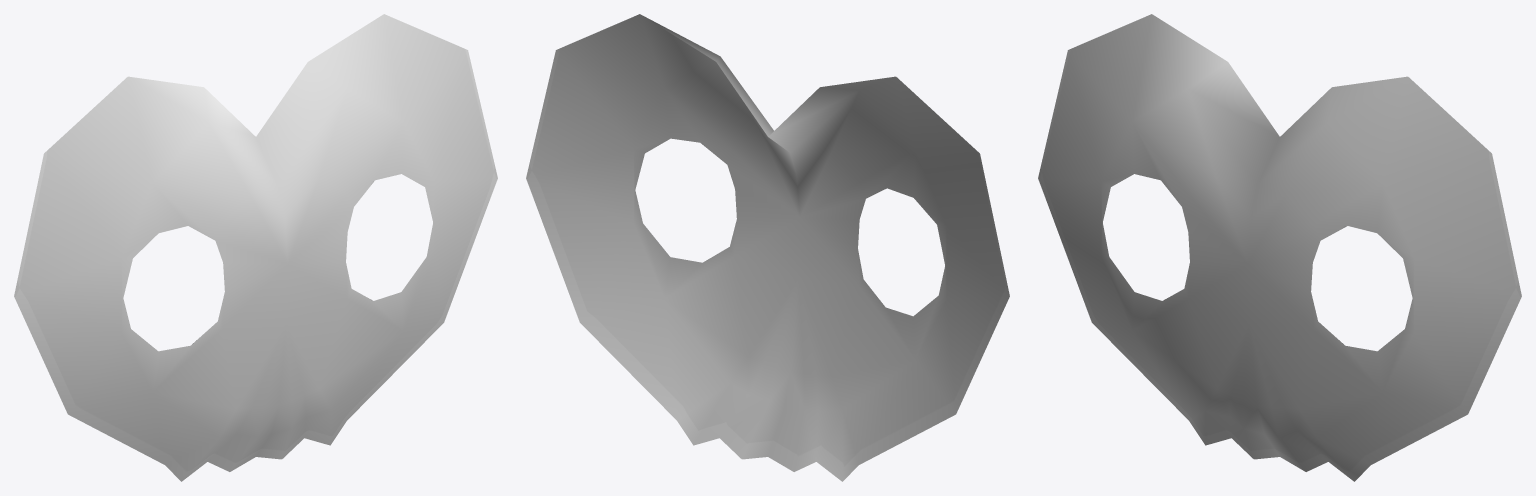
Rendered from face_P2_eye_close.fbx.
The picture shows the model from 3 angles, left to right: view 1: azimuth 30°, elevation 25°; view 2: azimuth 150°, elevation 25°; view 3: azimuth 330°, elevation 25°; orthographic projection.
Parts seen in each view (by area): view 1: polySurface4; view 2: polySurface4; view 3: polySurface4.
Part boxes in pixels (<box>): polySurface4: <box>14,14,497,481</box>; polySurface4: <box>526,14,1009,481</box>; polySurface4: <box>1038,14,1521,481</box>.
Bounding box in the file's own units: 58.83 × 48.86 × 6.73.
1 material, 1 textured.
